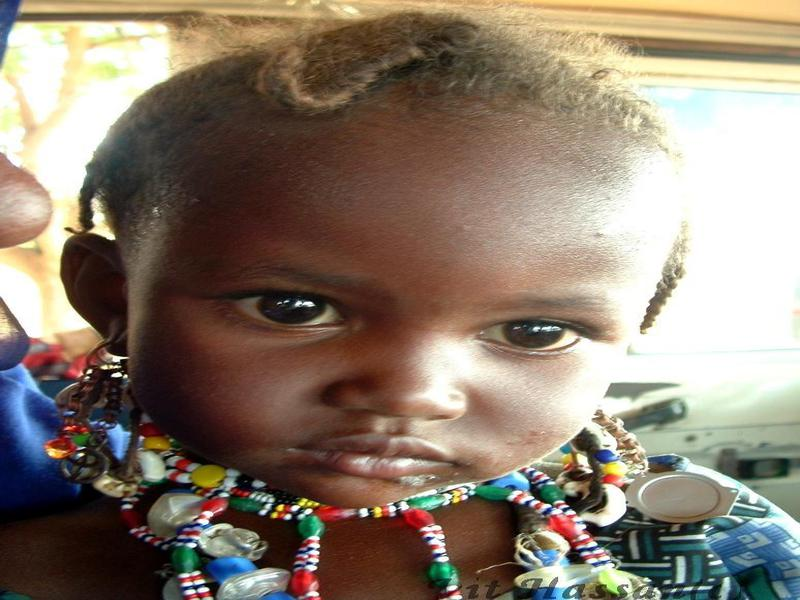person: (51, 12, 800, 594)
